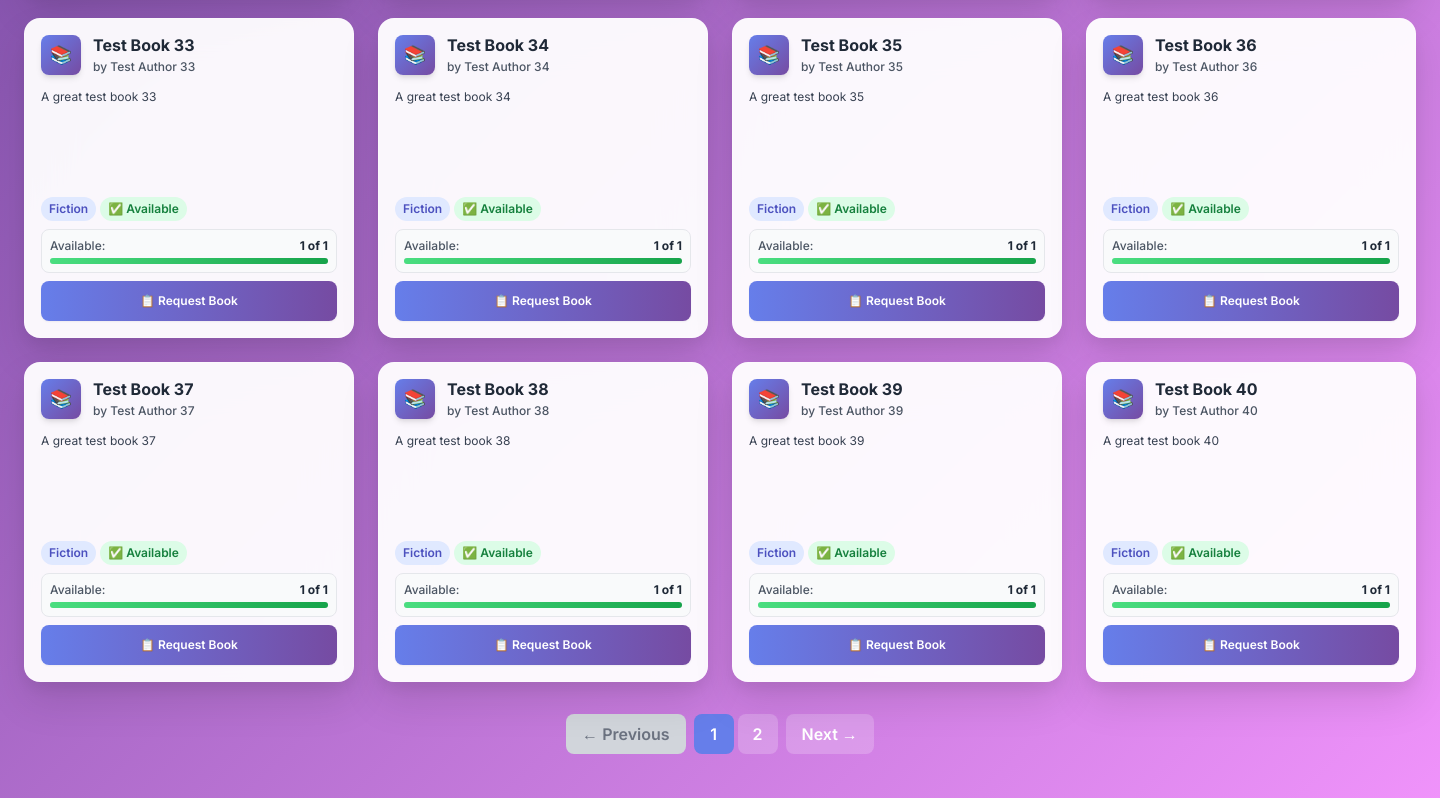
Test: BookCatalog Component › handles pagination correctly
(page scrolled)
Expected: the button "← Previous" is disabled, [566,714,686,754]
# Go to next page
Click the button "Next →" at (830, 734), box [786,714,874,754]
(page scrolled)
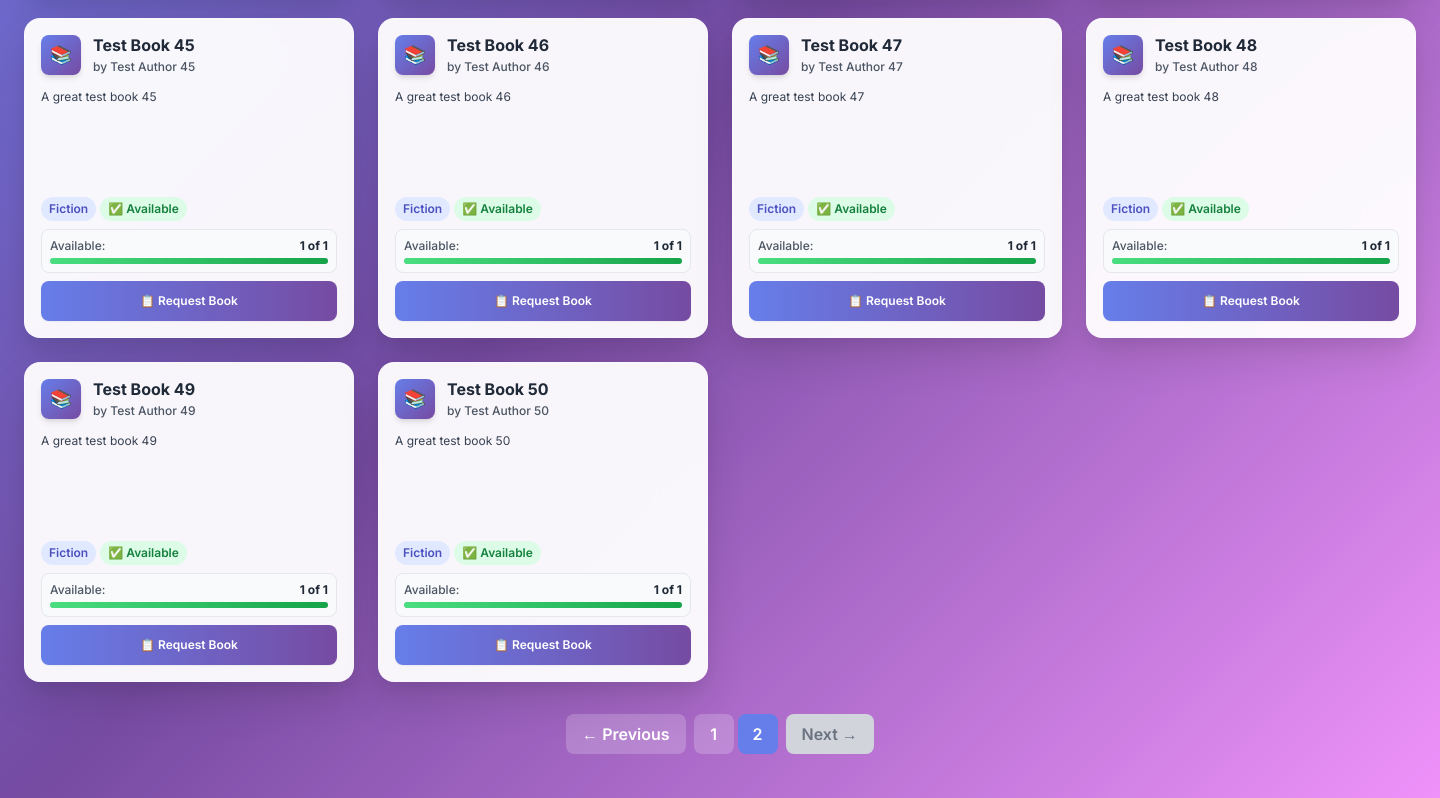
Result: the button "Next →" is disabled at [786,714,874,754]
Result: the button "← Previous" is enabled
# Go back to first page
Click the button "← Previous" at (626, 734), box [566,714,686,754]
(page scrolled)
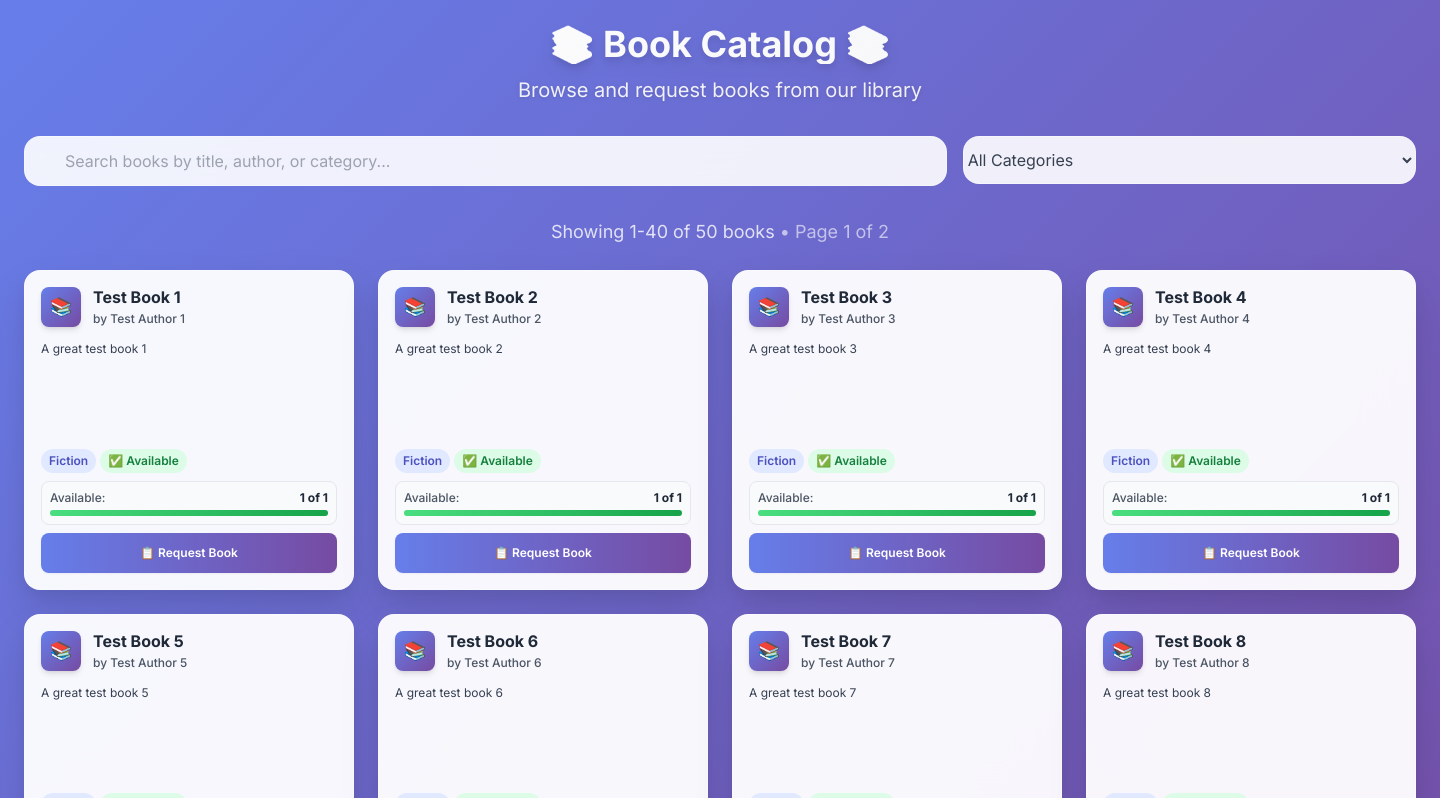
Result: the text "• Page 1 of 2" is shown at [775,221,889,242]
